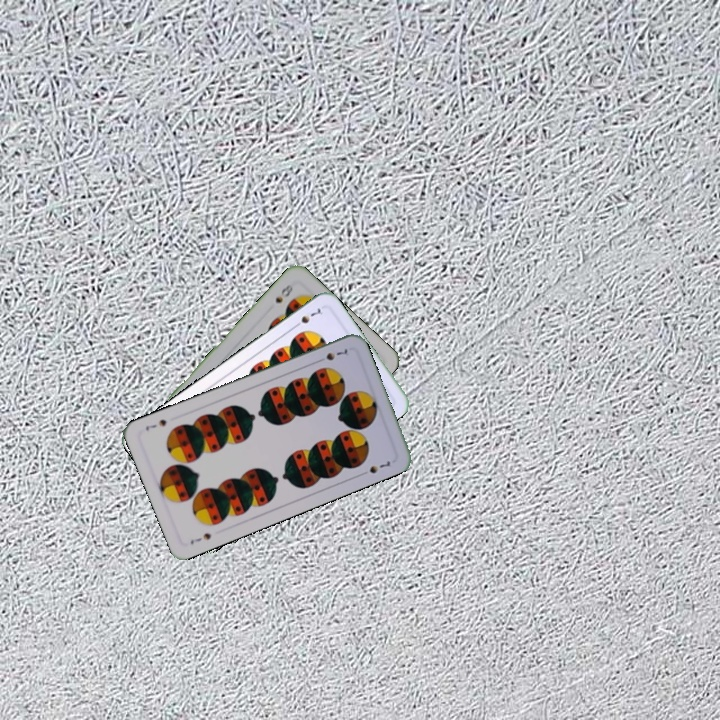S7: (289, 304, 325, 331), (313, 344, 350, 365), (186, 529, 213, 547)
S8: (271, 278, 296, 306)
